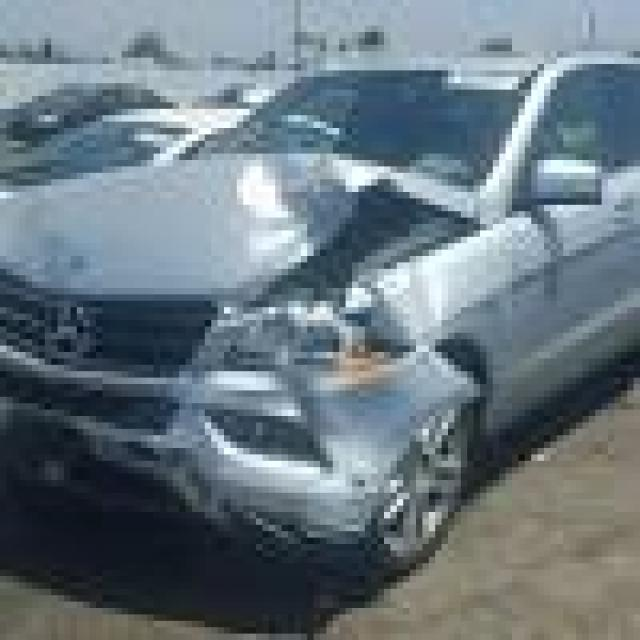moderate: (170, 148, 458, 480)
